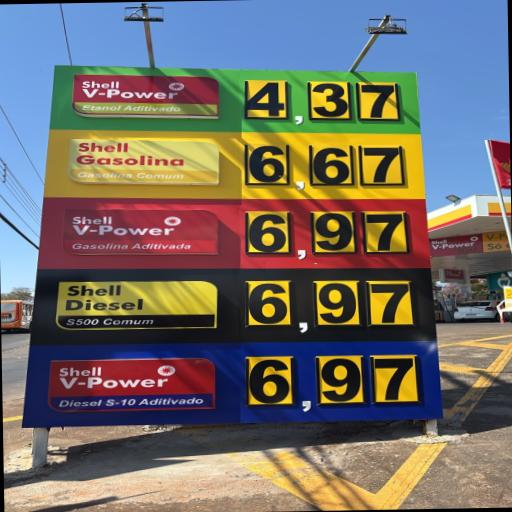ETANOL: (65, 72, 224, 121)
GASOLINA AD: (62, 207, 221, 257)
GASOLINA C: (60, 135, 231, 186)
S10: (44, 356, 228, 415)
S500: (50, 278, 220, 334)
placa: (24, 66, 441, 424)
preco: (236, 352, 426, 411), (235, 201, 420, 259), (243, 275, 420, 332), (240, 138, 412, 190), (236, 76, 409, 126)
